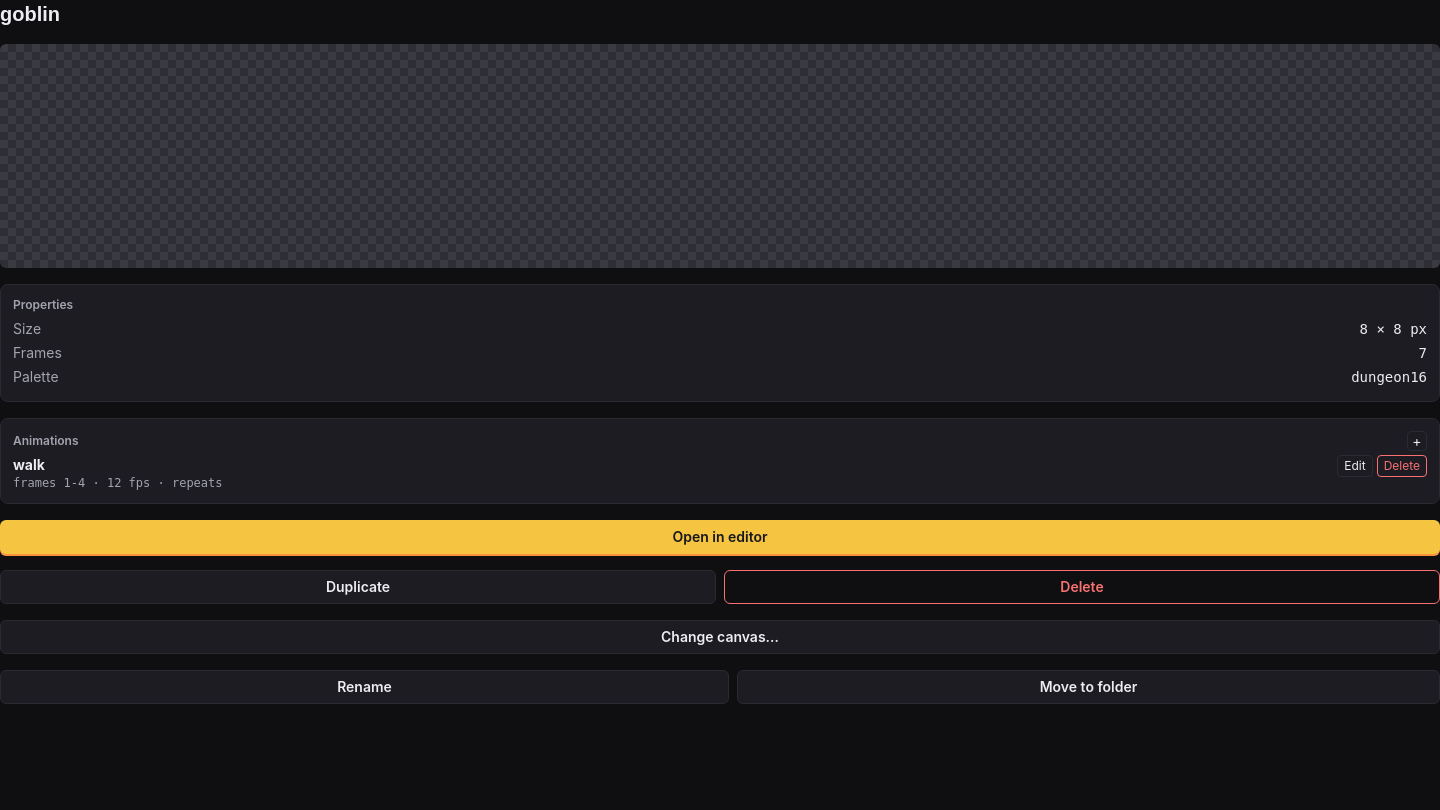
Test: Animations in the sprite details › checks the animation against the frames and names of the sprite
The width and height of the screenshot is (1440, 810).
Click the button named "New animation": (1417, 441) x1=1407 y1=431 x2=1427 y2=451
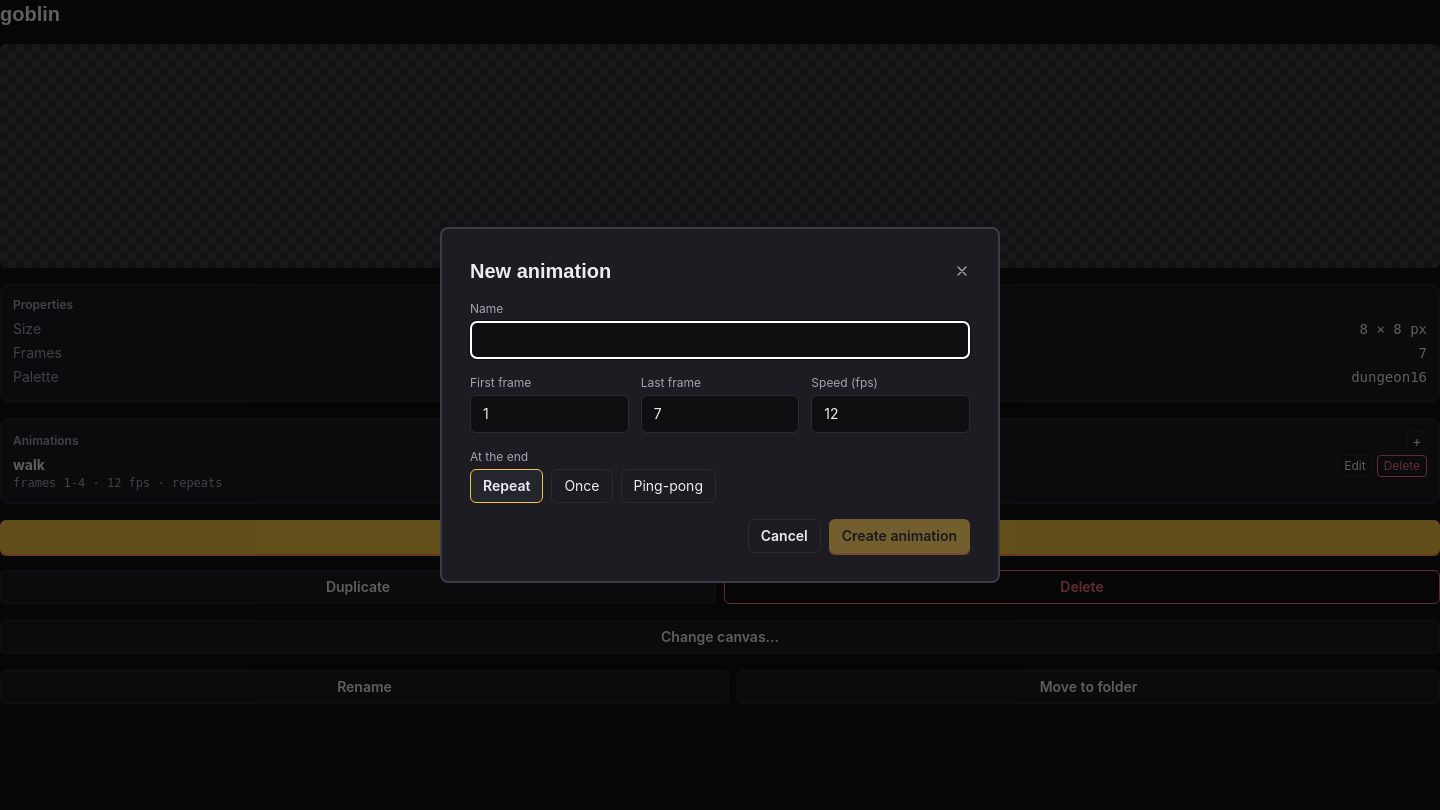
In the field labelled "Name": (720, 340) x1=470 y1=321 x2=970 y2=359, type "WALK"
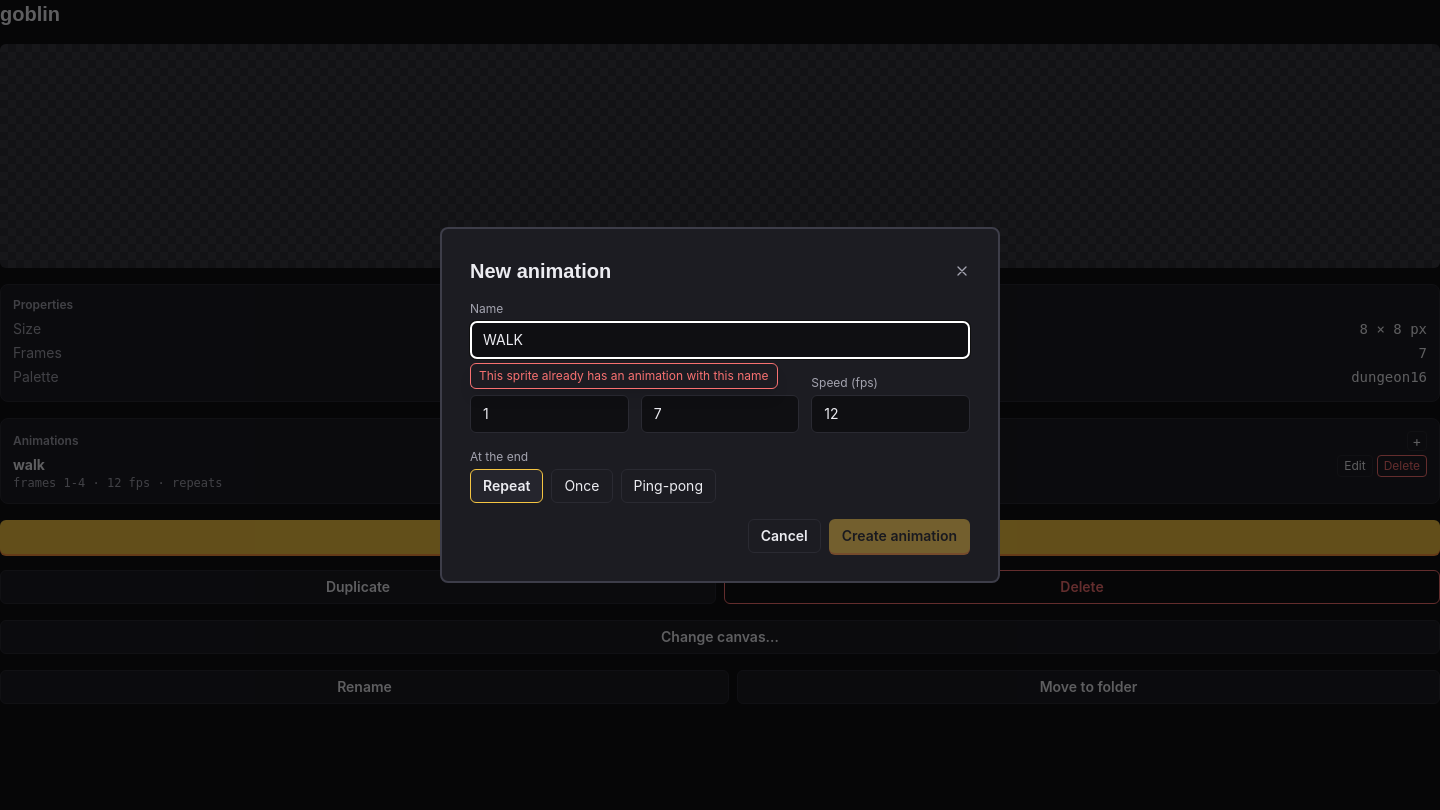
Expected: the text "This sprite already has an animation with this name" is shown, x1=470 y1=363 x2=778 y2=389
Replace the text in the field labelled "Last frame" with "8": (720, 414) x1=641 y1=395 x2=799 y2=433
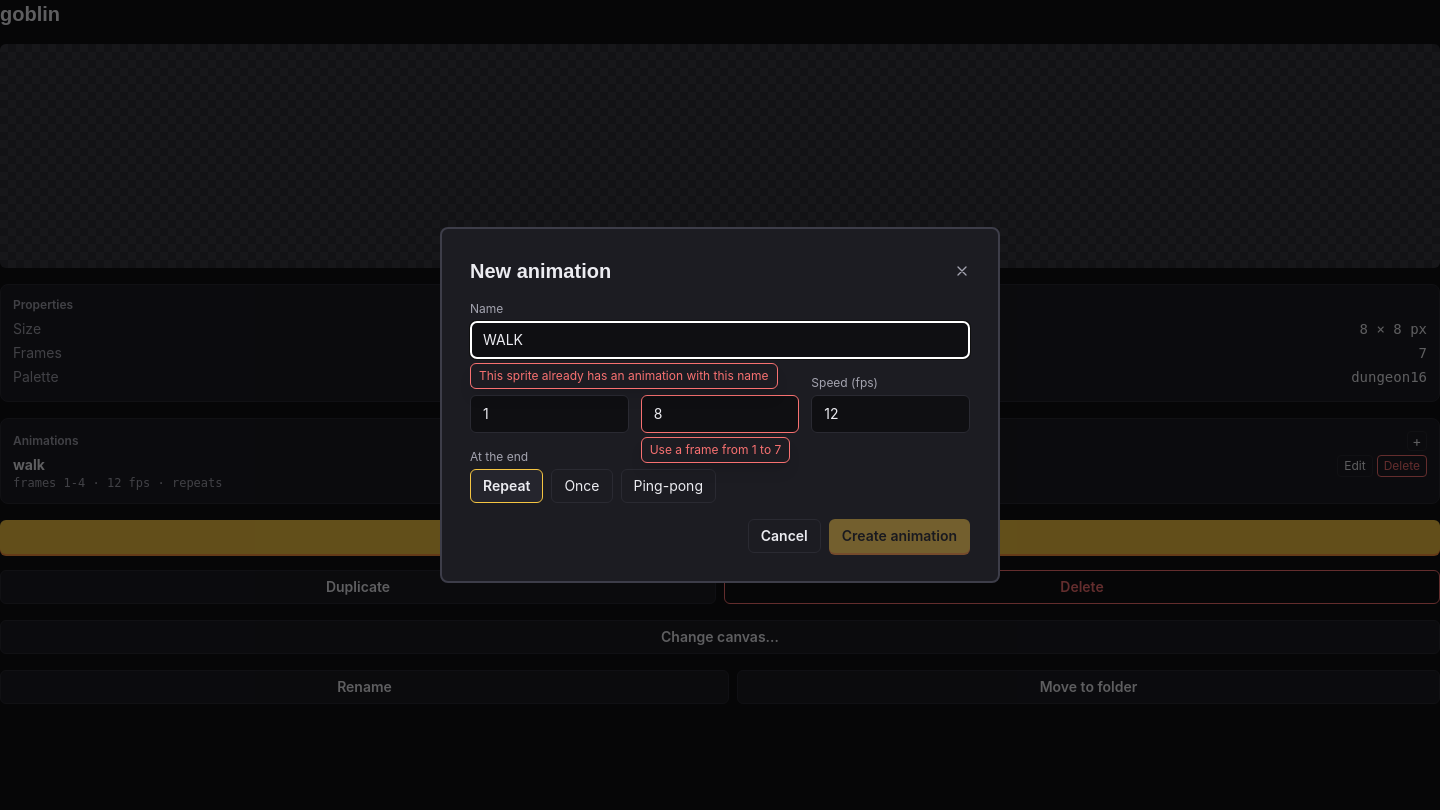
Expected: the text "Use a frame from 1 to 7" is shown, x1=641 y1=437 x2=790 y2=463
